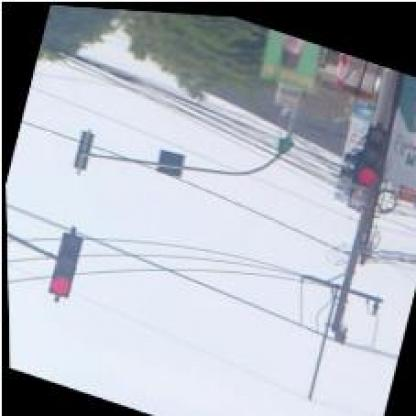red: (351, 118, 389, 186), (44, 230, 81, 298)
